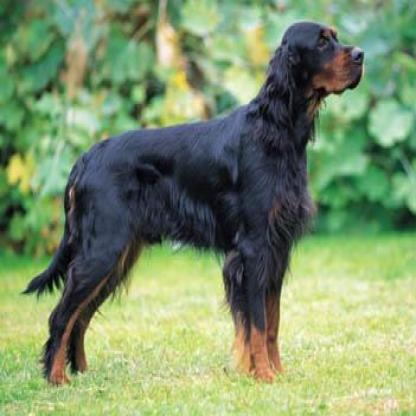Gordon_setter: (15, 11, 367, 393)
